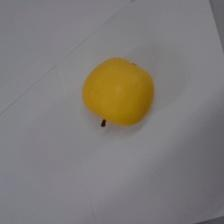yellow: (82, 58, 154, 127)
